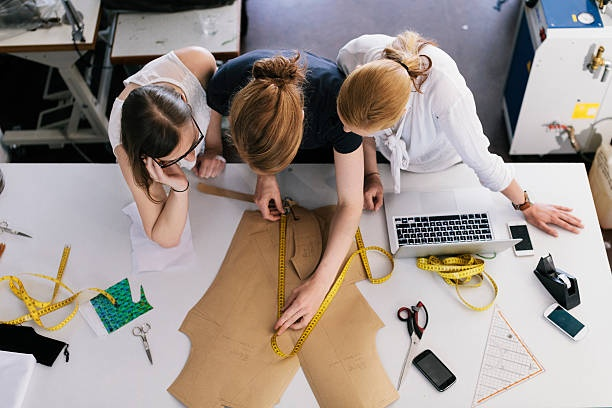keyboard: (394, 211, 495, 242)
laptop: (384, 187, 515, 255)
phone: (412, 347, 457, 392), (543, 302, 589, 342), (507, 219, 536, 258)
